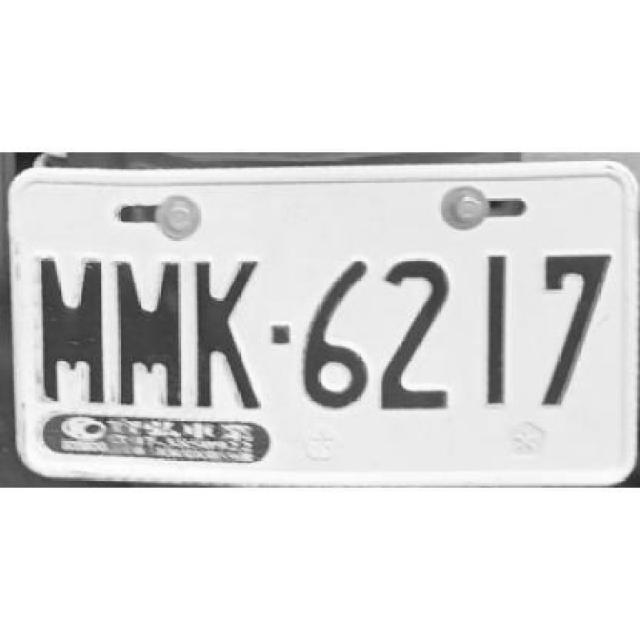-: (271, 323, 292, 345)
1: (486, 256, 506, 404)
2: (382, 257, 451, 411)
6: (302, 258, 369, 409)
7: (545, 255, 612, 408)
K: (195, 258, 260, 409)
M: (114, 260, 183, 409), (39, 255, 106, 403)
